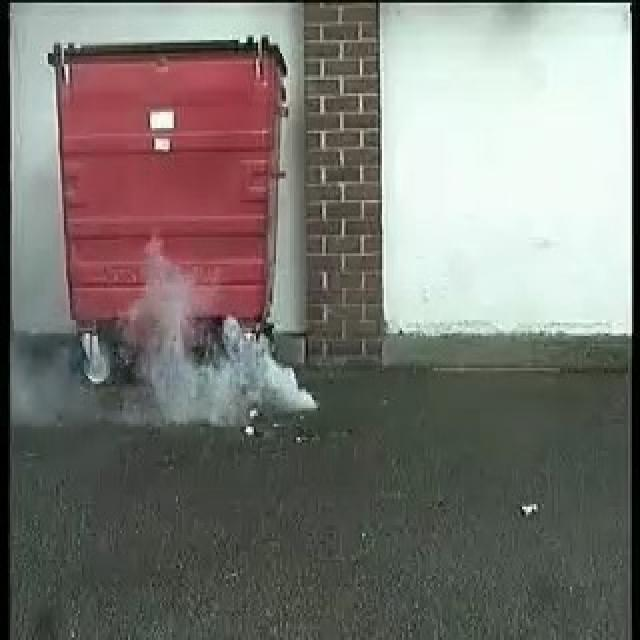smoke: (135, 240, 319, 420)
